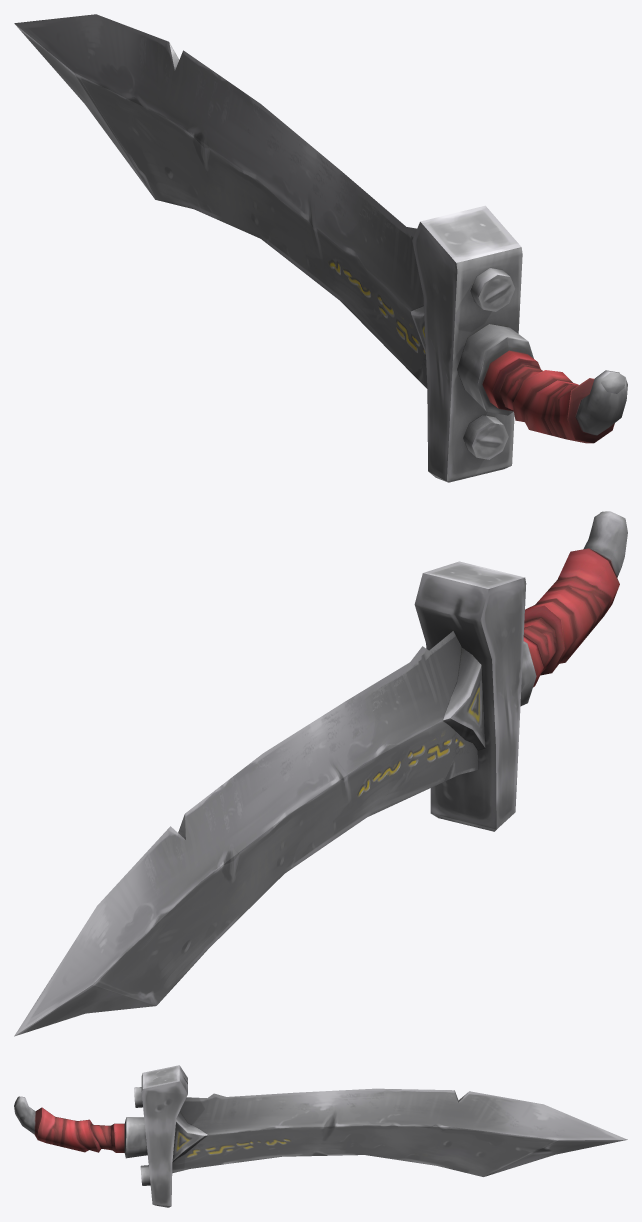
File: Scimitar.fbx
The picture shows the model from 3 angles, top to bottom: view 1: azimuth 30°, elevation 25°; view 2: azimuth 150°, elevation 25°; view 3: azimuth 270°, elevation 25°; orthographic projection. The views are drawn at different scales.
Parts seen in each view (by area): view 1: Object001; view 2: Object001; view 3: Object001.
Part boxes in pixels (bbox=[...]): Object001: bbox=[14, 14, 627, 482]; Object001: bbox=[14, 511, 627, 1036]; Object001: bbox=[14, 1065, 627, 1207].
Bounding box in the file's own units: 3.57 × 13.03 × 56.81.
